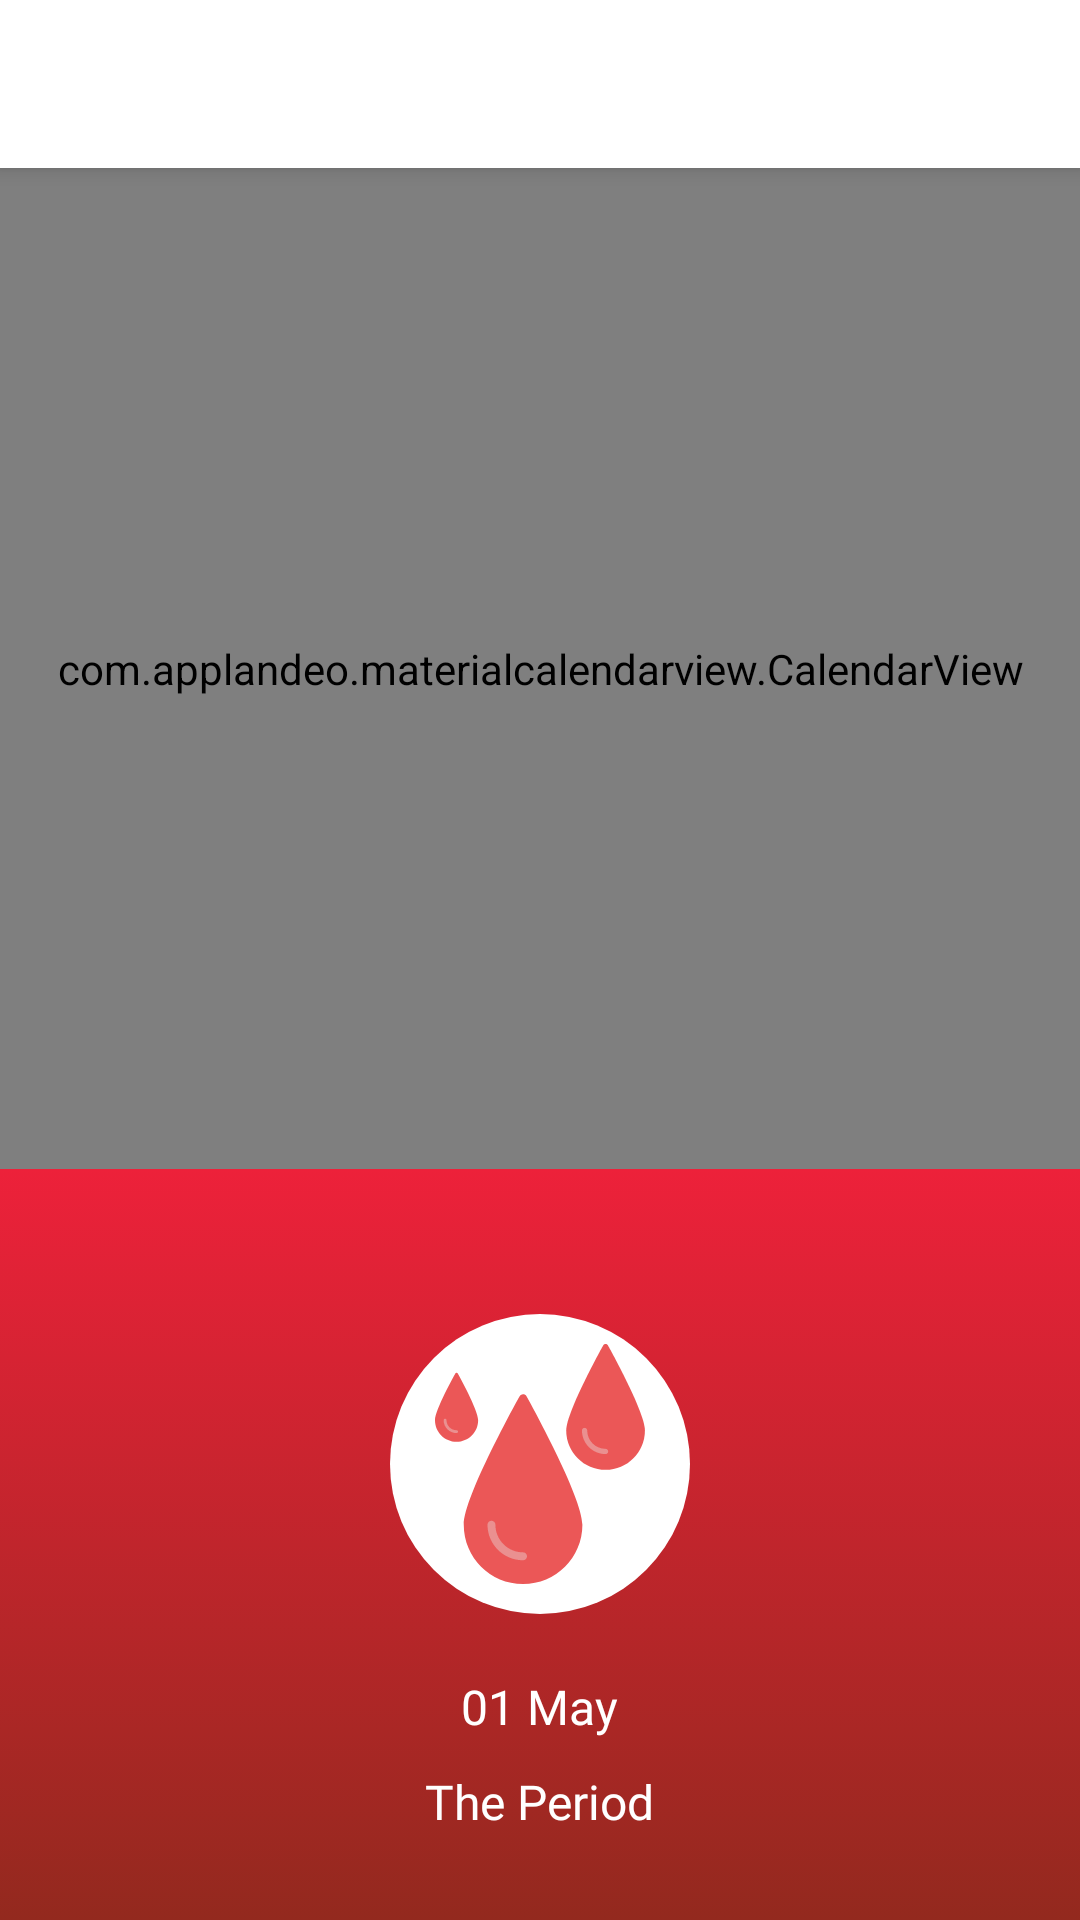

Where to tap for icons on this 1080 × 1920 app screen, as point (x, y):
blood: point (540, 1464)
